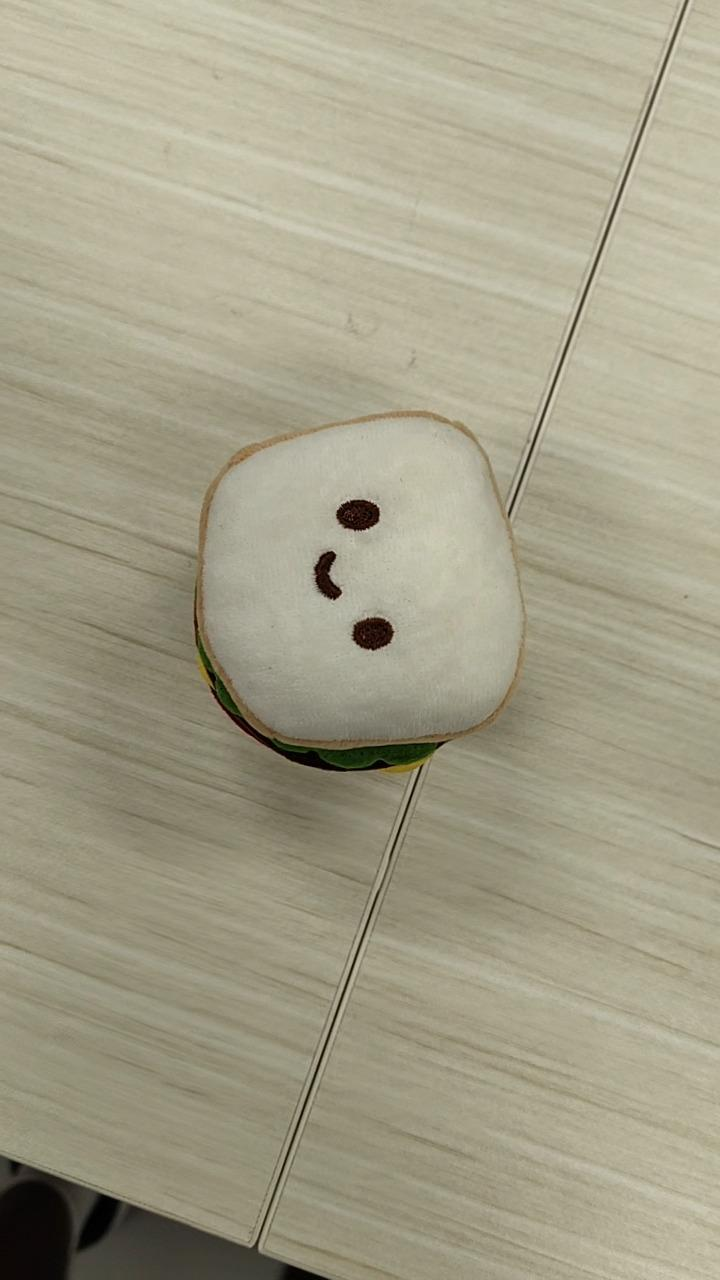objects: (191, 407, 527, 775)
